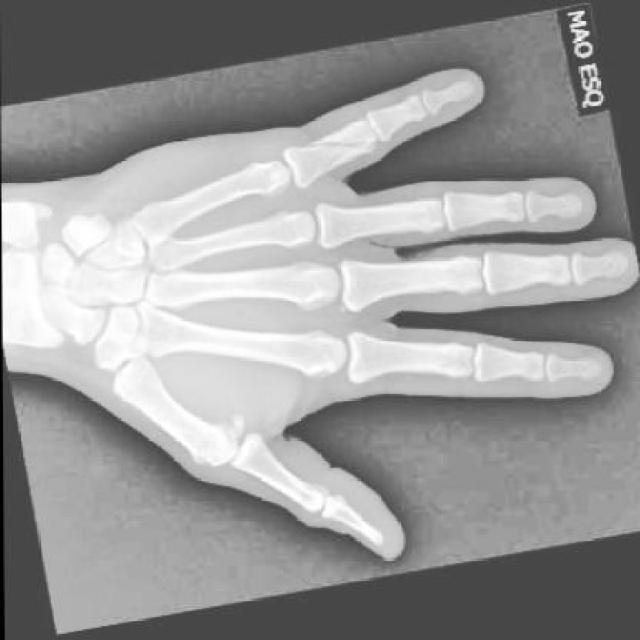Fracture: (299, 123, 381, 180)
